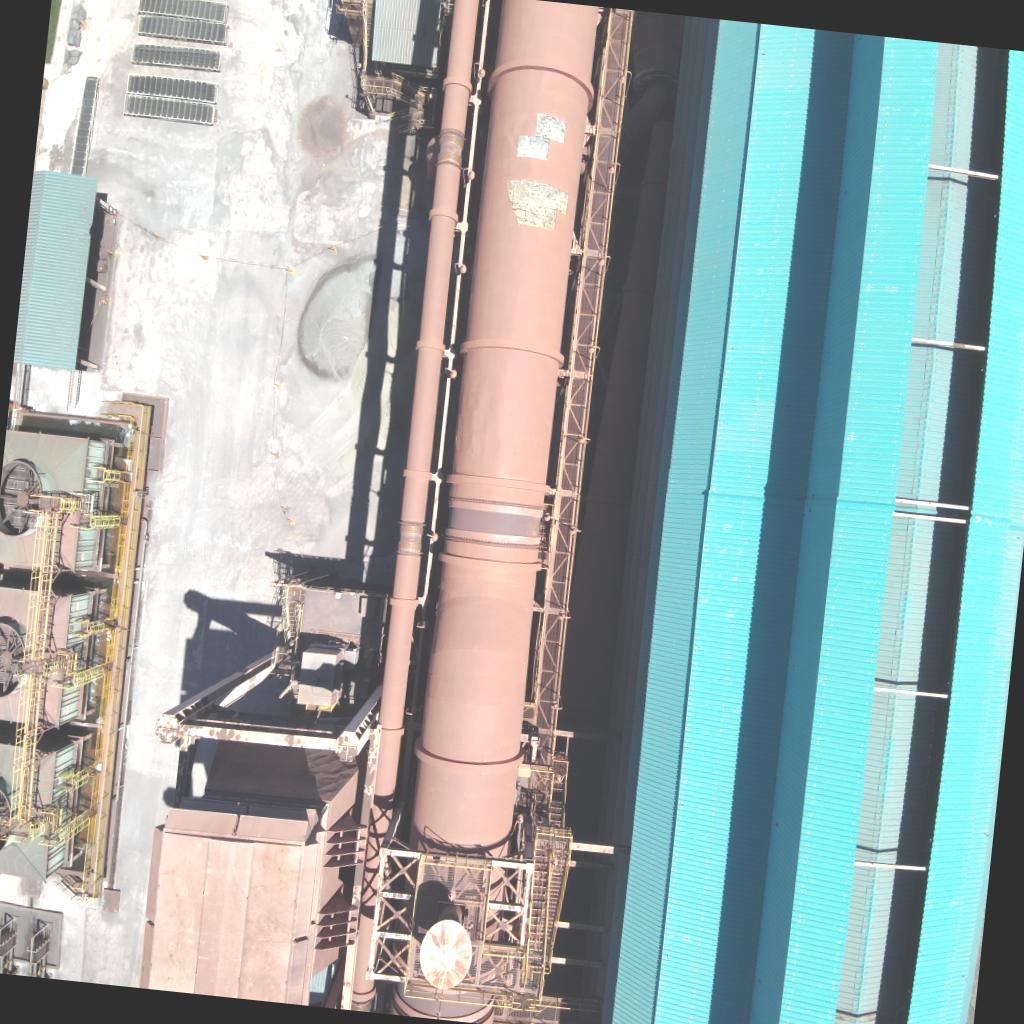Failures: (501, 174, 570, 233), (514, 109, 568, 164)
